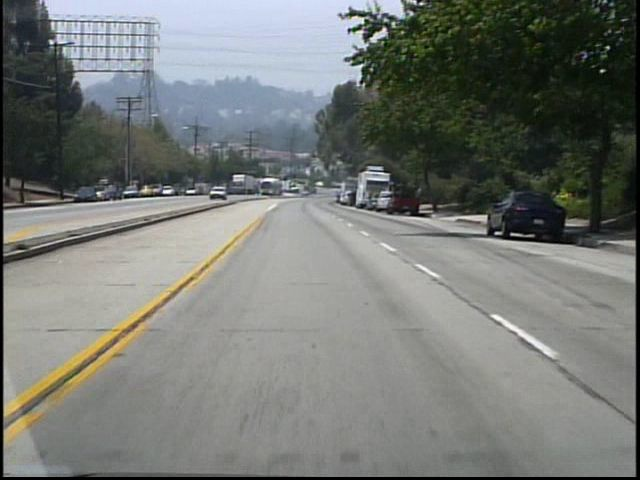person: (411, 183, 422, 209)
